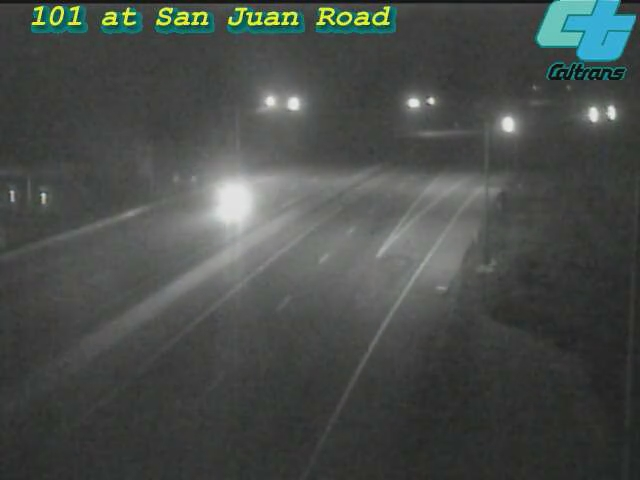vehicle: (199, 159, 279, 239), (482, 100, 532, 150), (565, 92, 615, 142), (588, 88, 638, 138)
